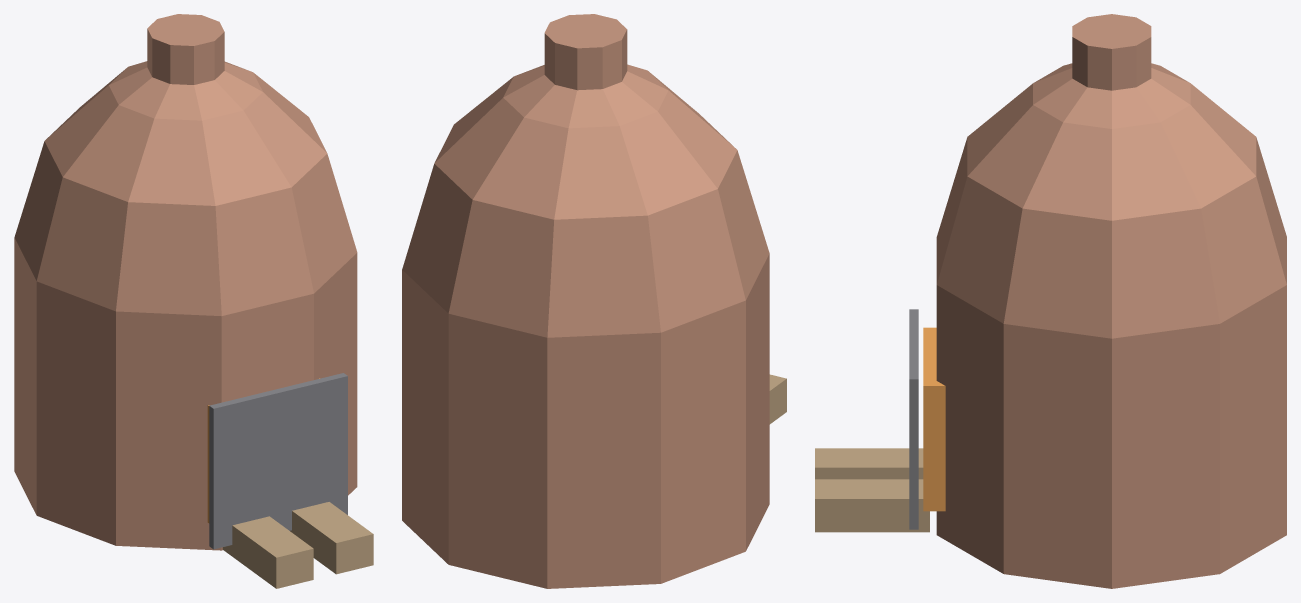
Rendered from prop-kiln-small-pt1.fbx.
The picture shows the model from 3 angles, left to right: view 1: azimuth 30°, elevation 25°; view 2: azimuth 150°, elevation 25°; view 3: azimuth 270°, elevation 25°; orthographic projection. The views are drawn at different scales.
Parts seen in each view (by area): view 1: prop-kiln-small-pt1; view 2: prop-kiln-small-pt1; view 3: prop-kiln-small-pt1.
Boxes of the visible parts, <box> form: prop-kiln-small-pt1: <box>14,14,373,588</box>; prop-kiln-small-pt1: <box>402,14,786,588</box>; prop-kiln-small-pt1: <box>815,14,1286,588</box>.
Bounding box in the file's own units: 80 × 115 × 103.
